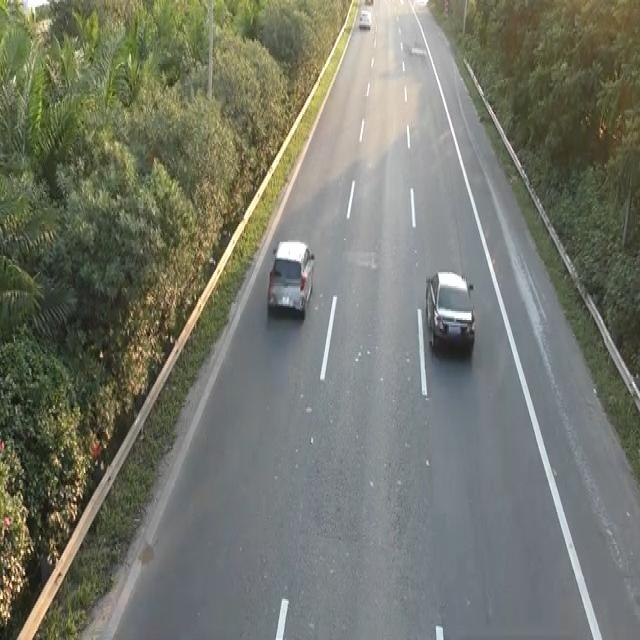bus: (423, 267, 476, 352), (266, 236, 315, 320)
